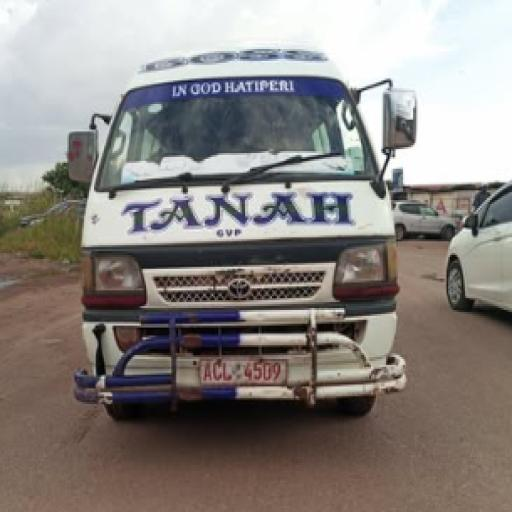number-plates: (198, 354, 285, 388)
